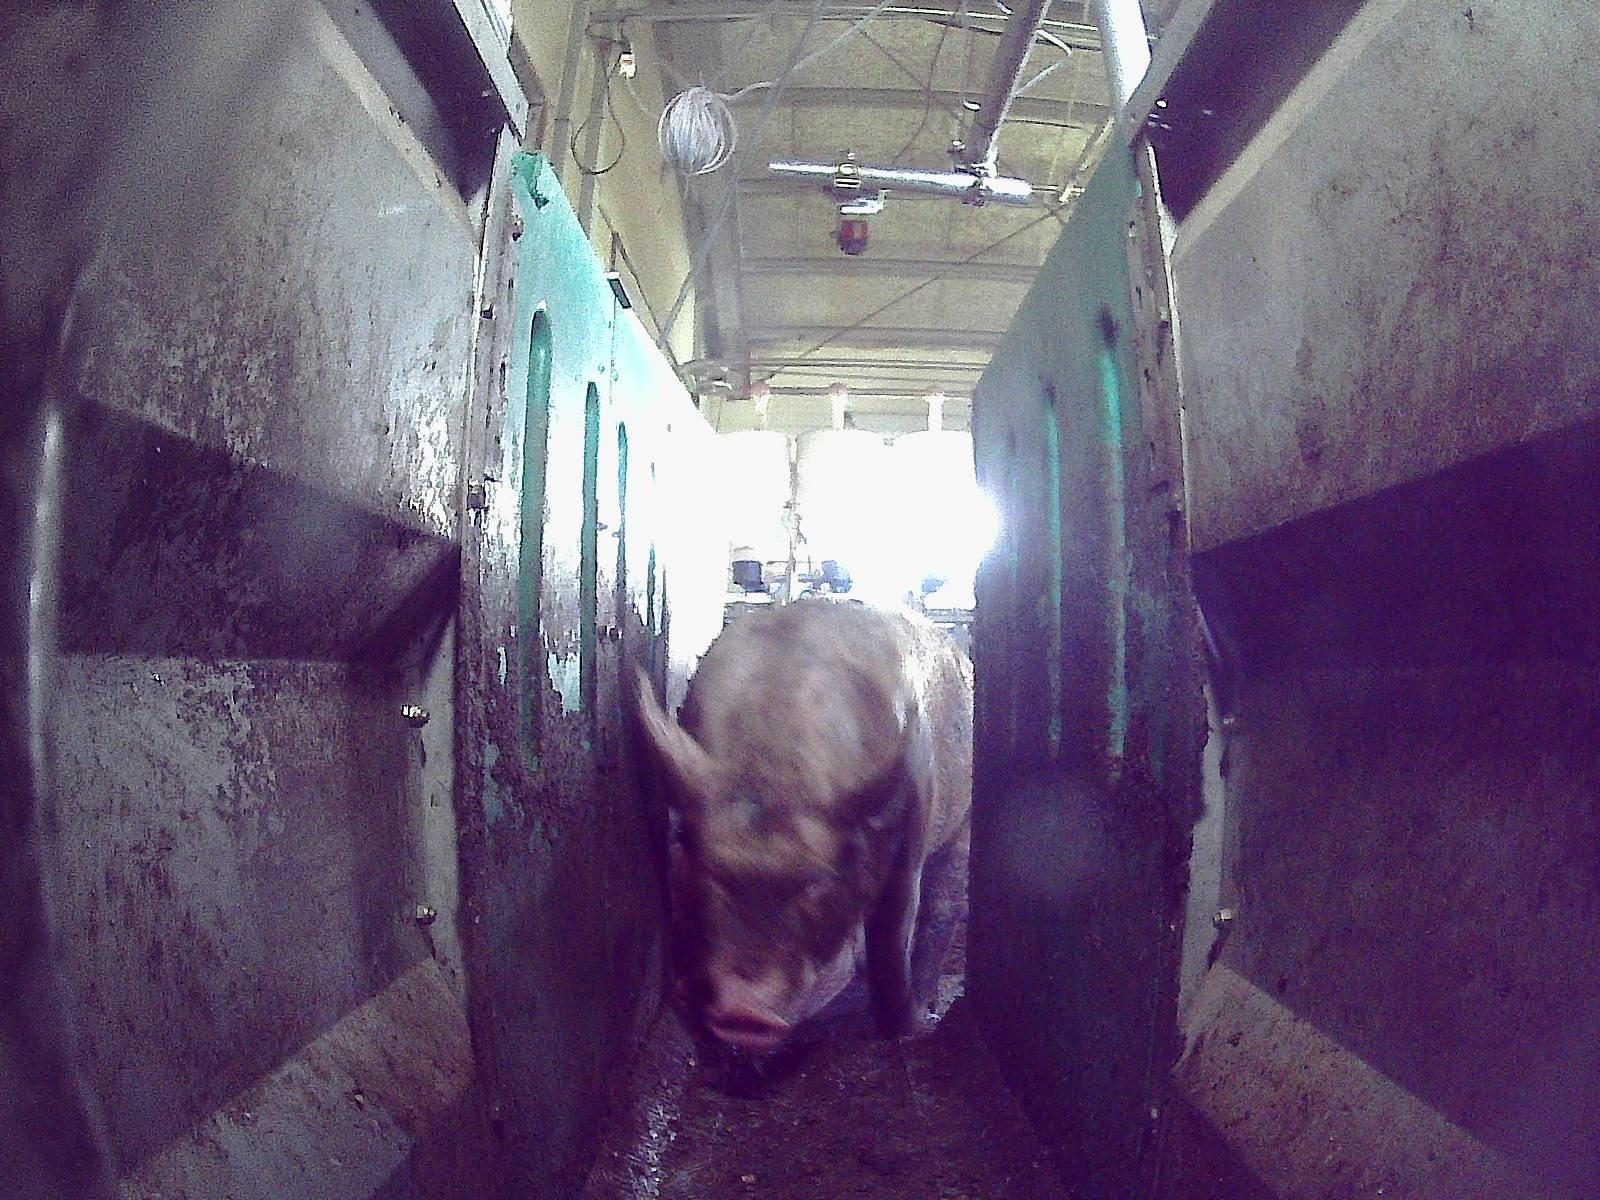Face: (675, 729, 879, 1049)
